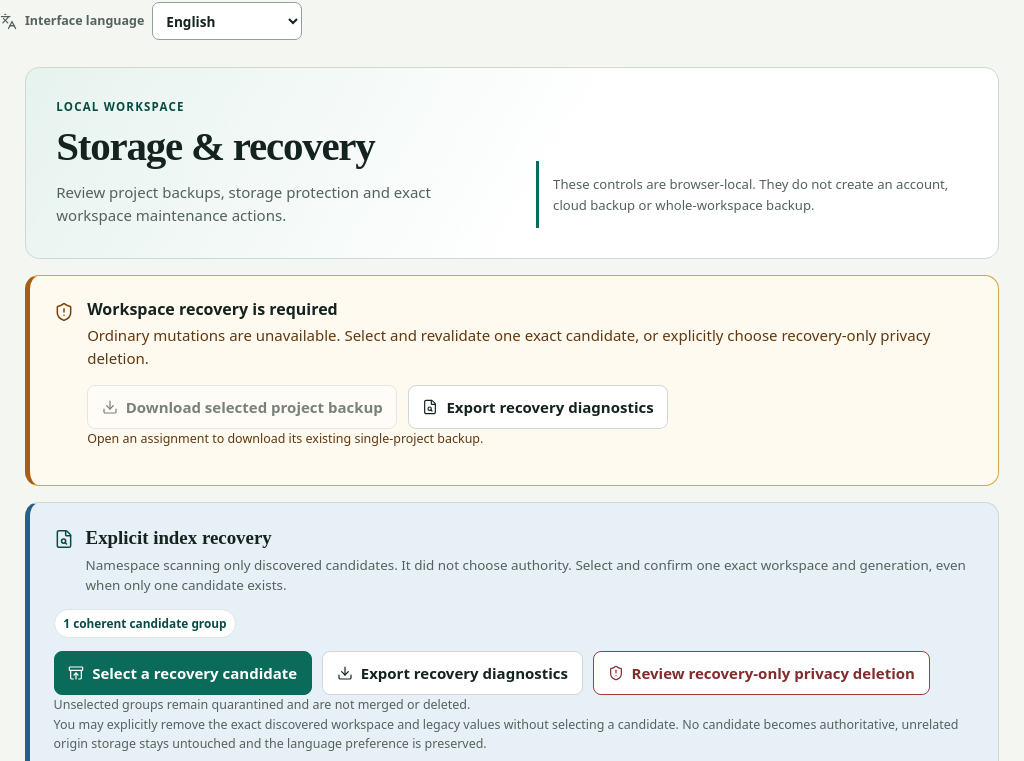
it: WorkspaceLifecyclePanel › localizes recovery-only privacy deletion without changing discovered identifiers
This screenshot has width=1024, height=761.
Select "English" in the dropdown at (227, 21), box [152,2,302,40]
Select "Simplified Chinese" in the dropdown at (227, 21), box [152,2,302,40]
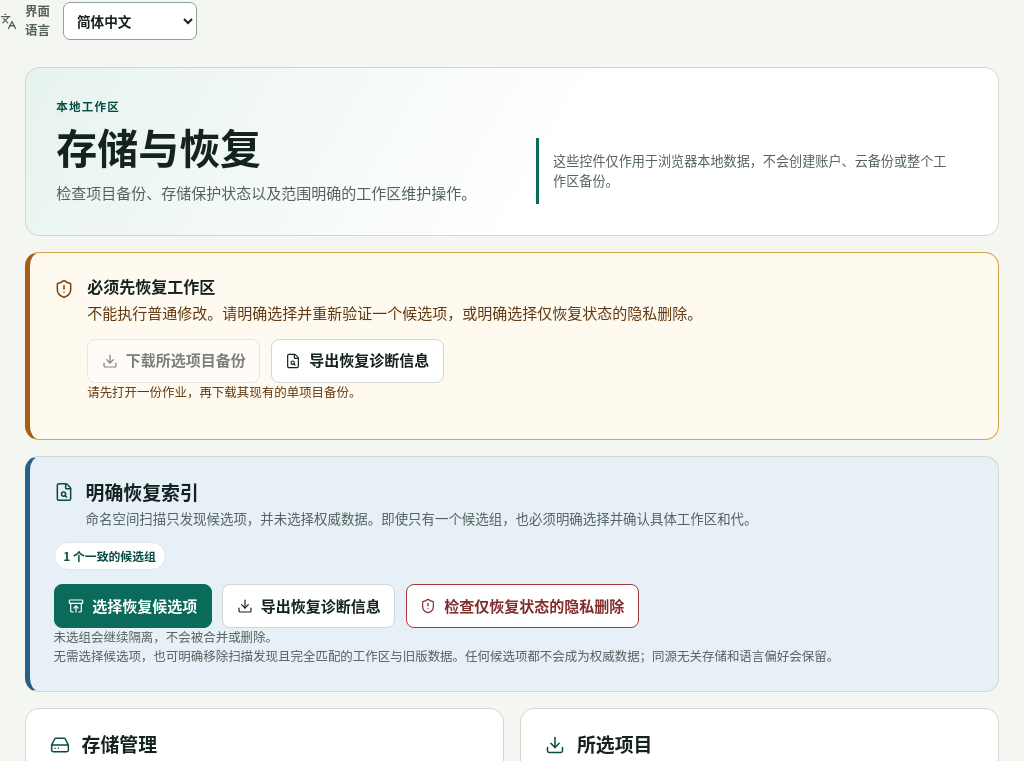
Click the button "检查仅恢复状态的隐私删除" at (522, 606), box [406,584,639,628]
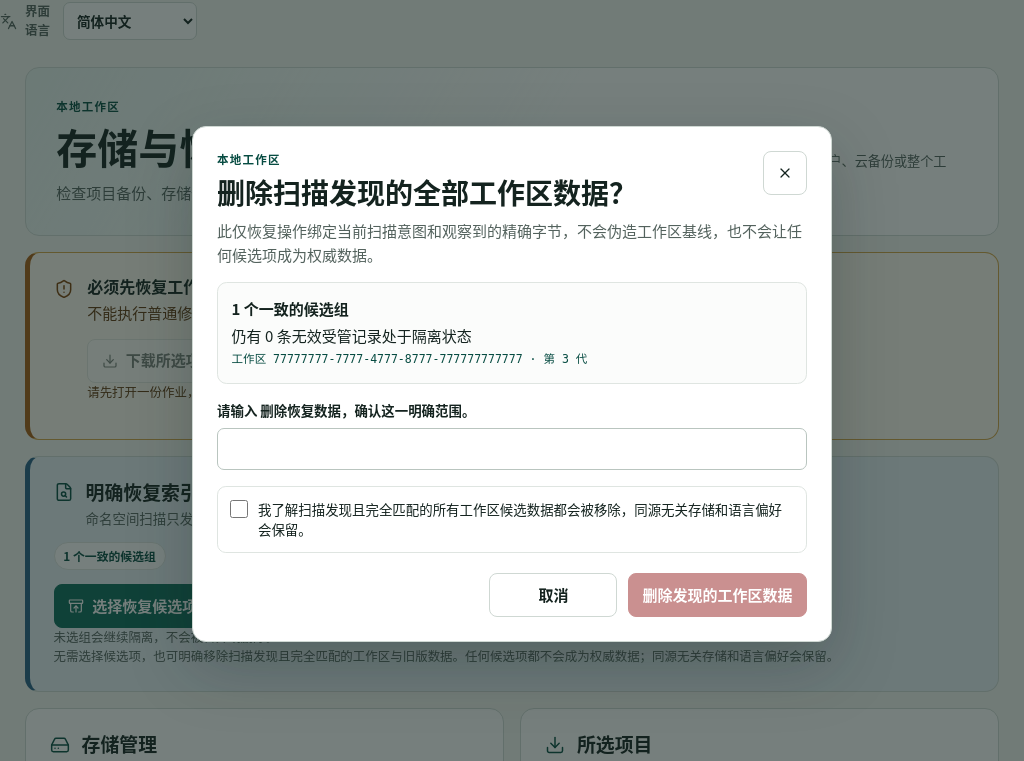
Expected: the dialog "删除扫描发现的全部工作区数据？" shows "不会伪造工作区基线", [217,220,802,265]
Expected: the dialog "删除扫描发现的全部工作区数据？" shows "77777777-7777-4777-8777-777777777777", [232,352,523,366]
Type "删除恢复数据" into the field at (512, 448), box [217,428,807,470]
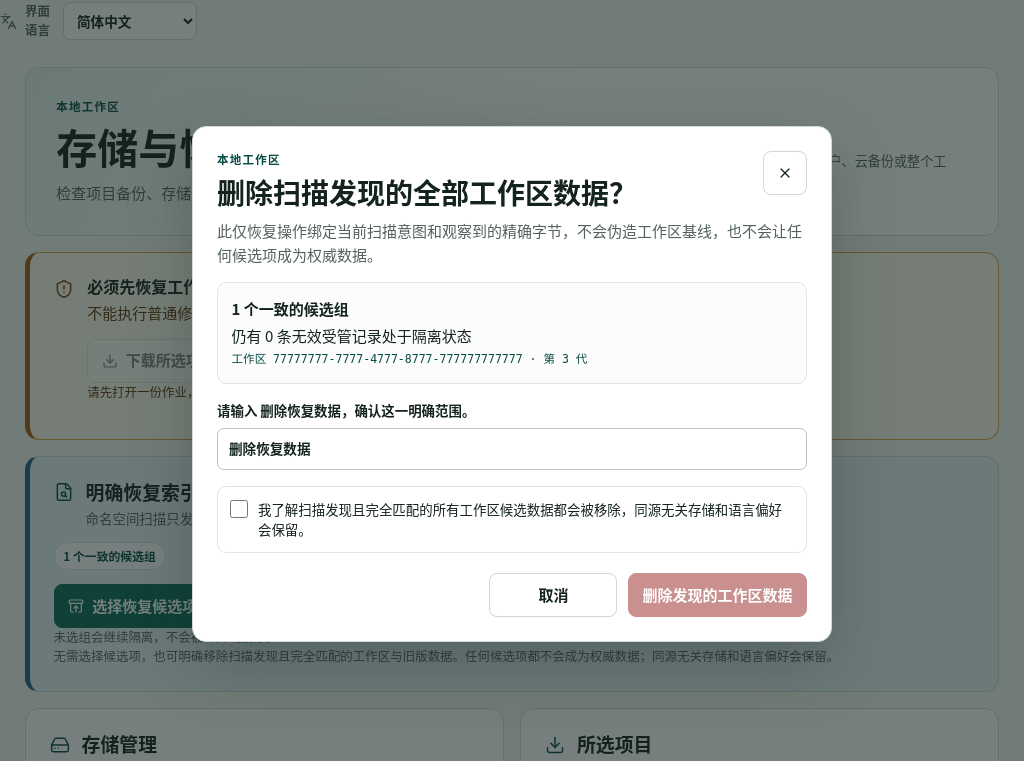
Click the checkbox at (239, 509), box [230,500,248,518]
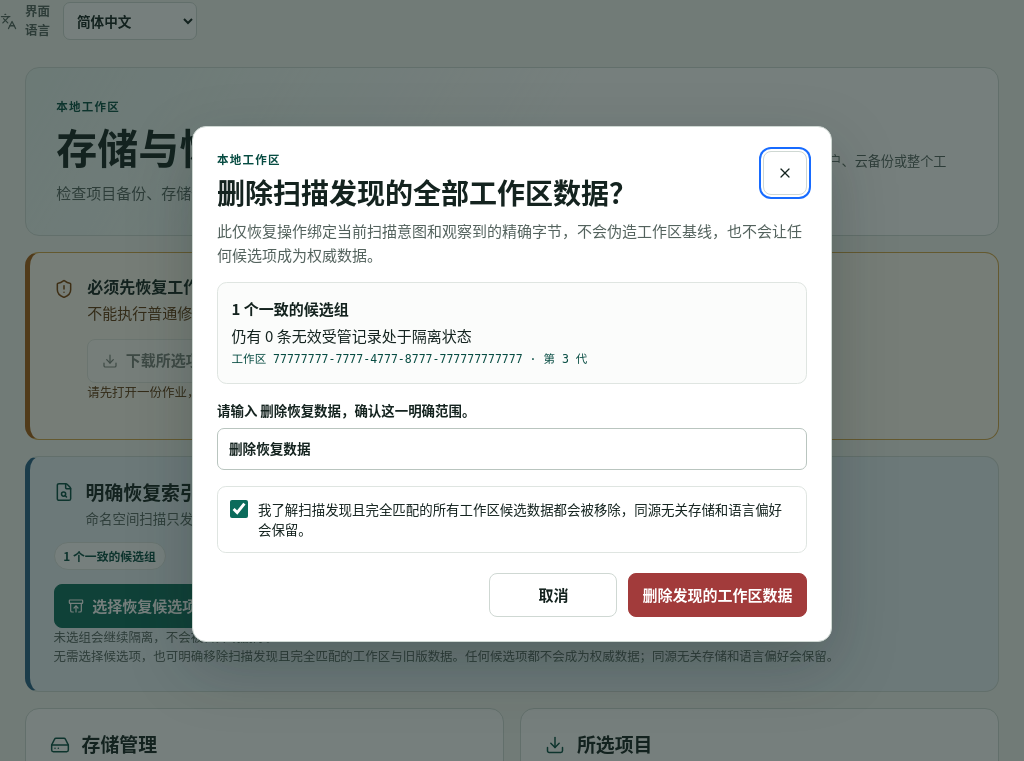
Expected: the button "删除发现的工作区数据" is enabled, [628,573,807,617]
